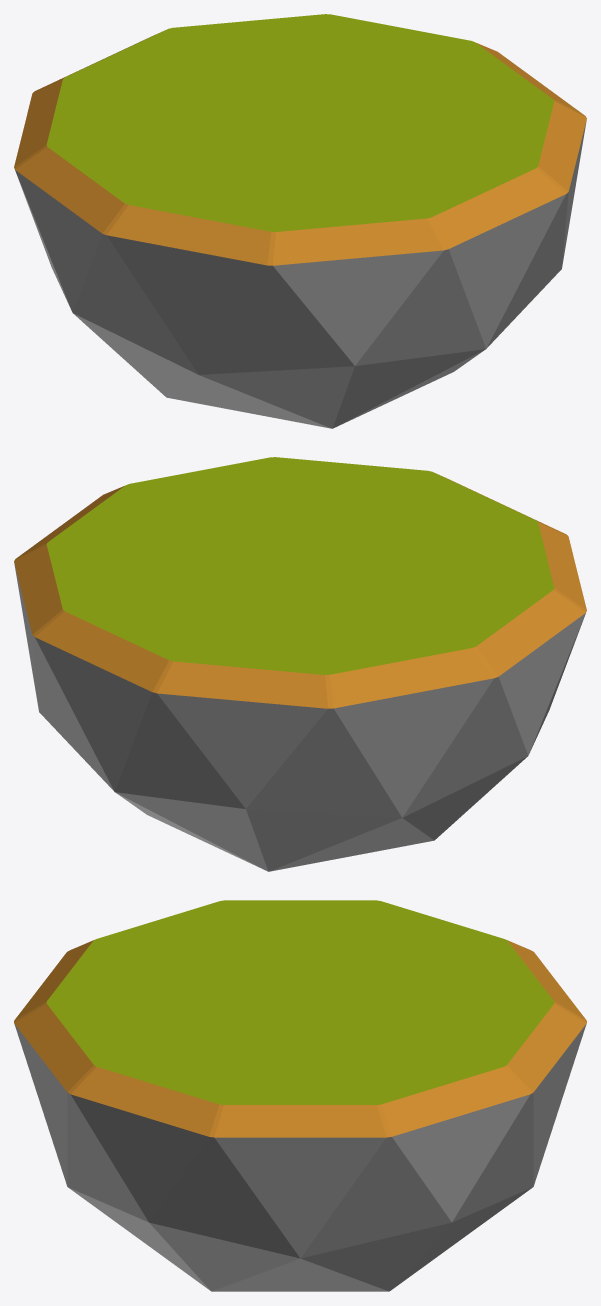
File: rock.glb
3 views of the same model, one above another, from view 1: azimuth 30°, elevation 25°; view 2: azimuth 150°, elevation 25°; view 3: azimuth 270°, elevation 25° (orthographic). The views are drawn at different scales.
Parts seen in each view (by area): view 1: Asset3DLoader.sceneRoot; view 2: Asset3DLoader.sceneRoot; view 3: Asset3DLoader.sceneRoot.
Boxes of the visible parts, x1=… form: Asset3DLoader.sceneRoot: x1=14, y1=14, x2=586, y2=428; Asset3DLoader.sceneRoot: x1=14, y1=457, x2=586, y2=871; Asset3DLoader.sceneRoot: x1=14, y1=900, x2=586, y2=1291.
Size of the model in its own units: 178 by 98.97 by 186.
